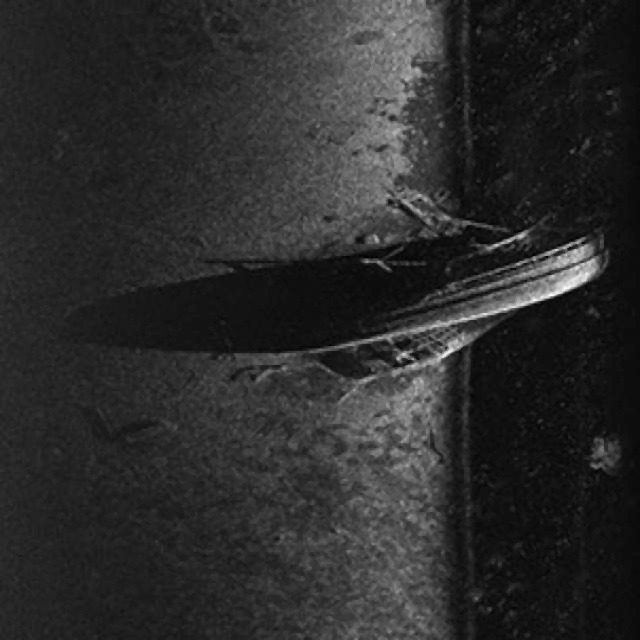Ship: (272, 173, 625, 394)
